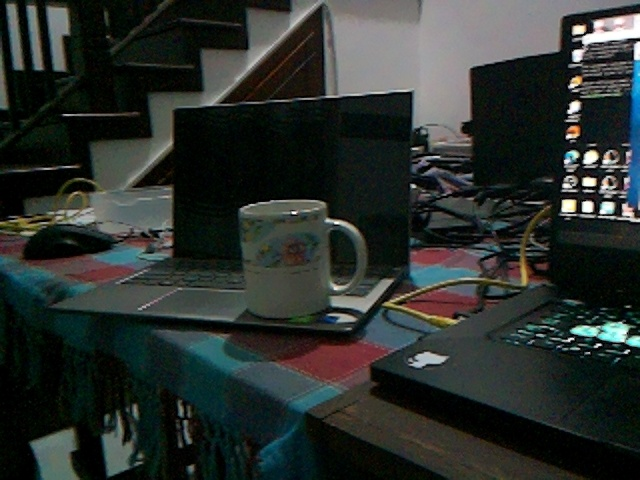mug: (237, 199, 370, 320)
